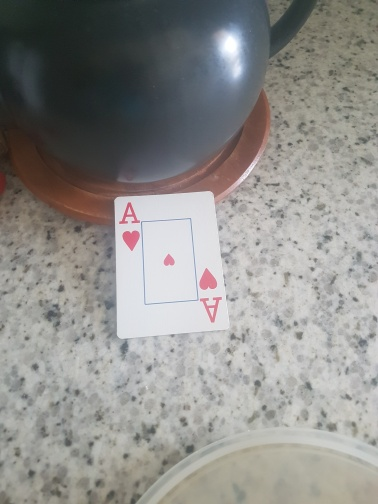ace: (115, 191, 231, 339)
